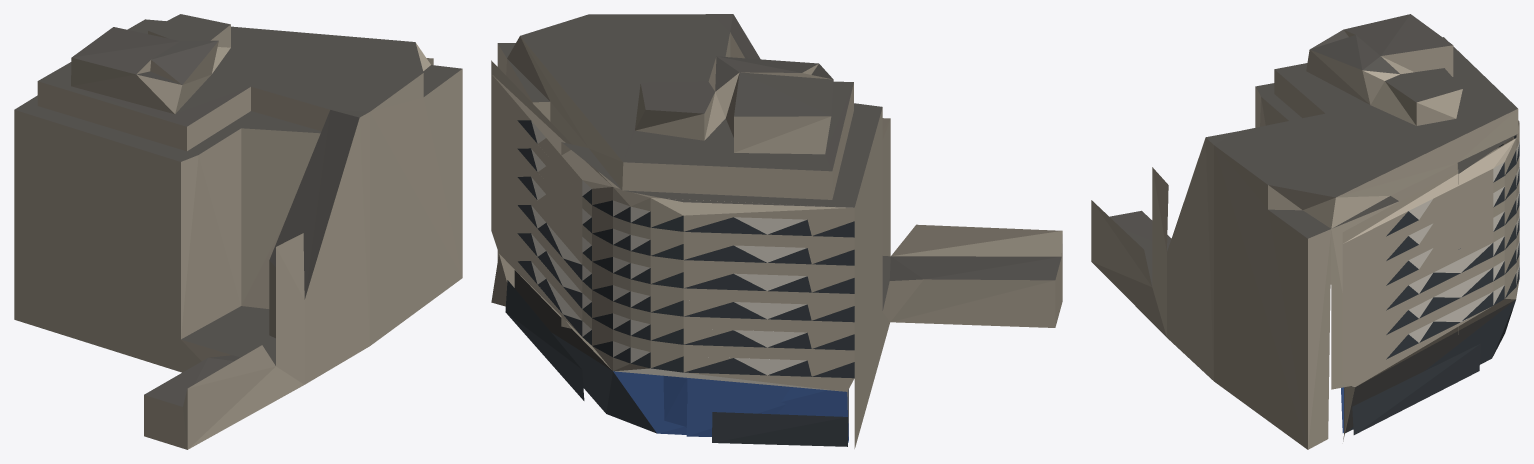
File: aurora-overtoom.lod2.glb
3 renders of one model, left to right at view 1: azimuth 30°, elevation 25°; view 2: azimuth 150°, elevation 25°; view 3: azimuth 270°, elevation 25°, orthographic. The views are drawn at different scales.
Visible parts, largest first — view 1: lod2; view 2: lod2; view 3: lod2.
Part boxes in pixels (x1,y1,x2,y2): lod2: [14, 14, 462, 449]; lod2: [491, 14, 1062, 448]; lod2: [1091, 14, 1519, 449].
Bounding box in the file's own units: 54.89 × 35.44 × 50.31.
